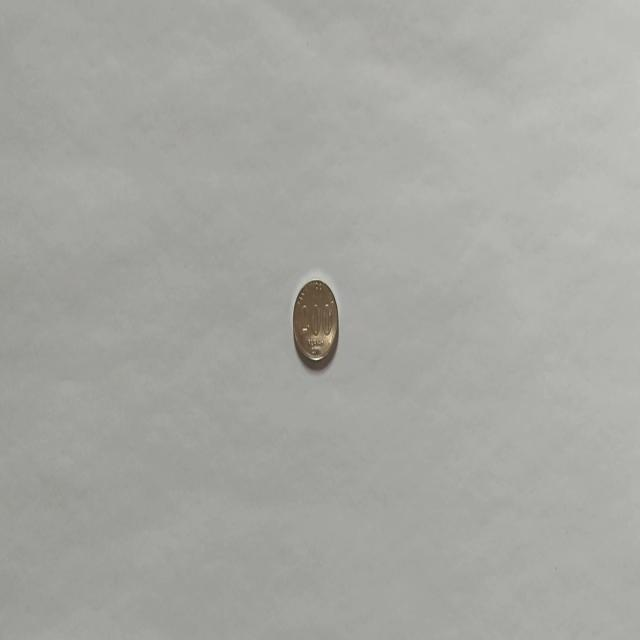dua ratus rupiah: (291, 276, 339, 366)
